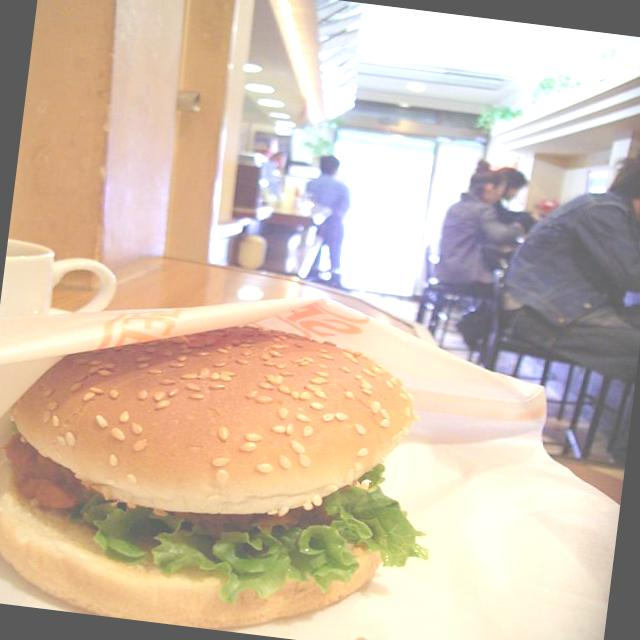Hamburger: (0, 272, 473, 640)
